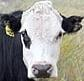muzzles: (26, 59, 59, 80)
